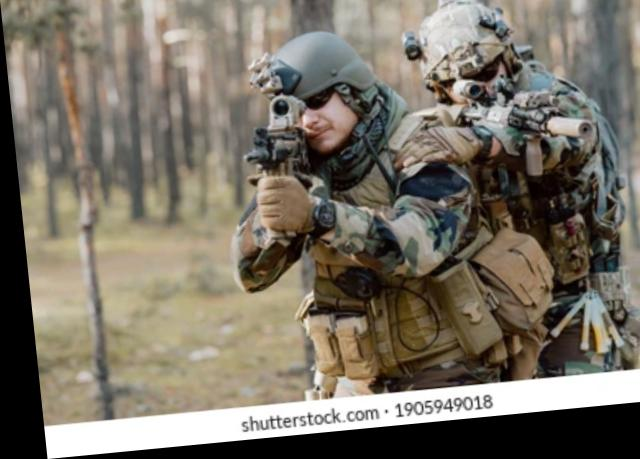other: (213, 32, 461, 405), (410, 0, 617, 285)
